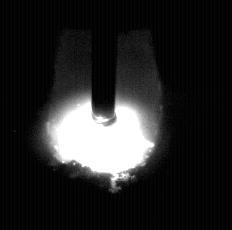arame: (92, 0, 117, 126)
poca: (44, 0, 163, 230)
